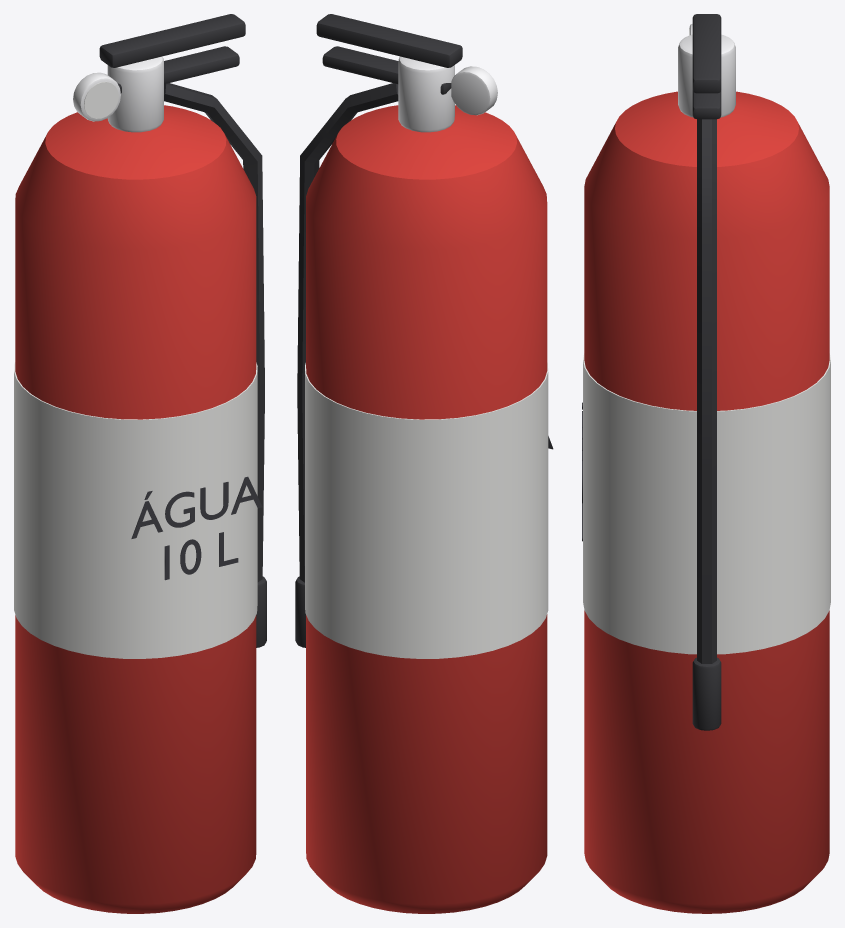
Rendered from HID-INC-004.glb.
The picture shows the model from 3 angles, left to right: view 1: azimuth 30°, elevation 25°; view 2: azimuth 150°, elevation 25°; view 3: azimuth 270°, elevation 25°; orthographic projection.
Visible parts, largest first — view 1: HID-INC-004_cilindro, HID-INC-004_rotulo, HID-INC-004_mangueira, HID-INC-004_gatilho, HID-INC-004_valvula, HID-INC-004_texto, HID-INC-004_alca, HID-INC-004_mostrador, HID-INC-004_manometro, HID-INC-004_bico; view 2: HID-INC-004_cilindro, HID-INC-004_rotulo, HID-INC-004_mangueira, HID-INC-004_gatilho, HID-INC-004_valvula, HID-INC-004_alca, HID-INC-004_manometro, HID-INC-004_bico; view 3: HID-INC-004_cilindro, HID-INC-004_rotulo, HID-INC-004_mangueira, HID-INC-004_gatilho, HID-INC-004_valvula, HID-INC-004_bico, HID-INC-004_alca.
Boxes of the visible parts, left/top/right/bottom form: HID-INC-004_cilindro: left=15, top=105, right=256, bottom=913; HID-INC-004_rotulo: left=14, top=362, right=257, bottom=658; HID-INC-004_mangueira: left=164, top=83, right=264, bottom=582; HID-INC-004_gatilho: left=99, top=14, right=245, bottom=67; HID-INC-004_valvula: left=107, top=56, right=163, bottom=132; HID-INC-004_texto: left=131, top=476, right=262, bottom=580; HID-INC-004_alca: left=117, top=46, right=239, bottom=93; HID-INC-004_mostrador: left=84, top=81, right=118, bottom=118; HID-INC-004_manometro: left=73, top=72, right=120, bottom=121; HID-INC-004_bico: left=256, top=576, right=266, bottom=647; HID-INC-004_cilindro: left=306, top=105, right=547, bottom=913; HID-INC-004_rotulo: left=305, top=362, right=548, bottom=658; HID-INC-004_mangueira: left=297, top=83, right=398, bottom=582; HID-INC-004_gatilho: left=316, top=14, right=462, bottom=67; HID-INC-004_valvula: left=398, top=56, right=454, bottom=132; HID-INC-004_alca: left=322, top=46, right=451, bottom=94; HID-INC-004_manometro: left=451, top=66, right=497, bottom=115; HID-INC-004_bico: left=295, top=576, right=305, bottom=647; HID-INC-004_cilindro: left=584, top=91, right=829, bottom=913; HID-INC-004_rotulo: left=583, top=353, right=830, bottom=654; HID-INC-004_mangueira: left=697, top=119, right=716, bottom=663; HID-INC-004_gatilho: left=692, top=14, right=721, bottom=93; HID-INC-004_valvula: left=678, top=34, right=735, bottom=117; HID-INC-004_bico: left=692, top=657, right=721, bottom=730; HID-INC-004_alca: left=692, top=90, right=721, bottom=119.
Size of the model in its own units: 0.1908 by 0.642 by 0.1723.
